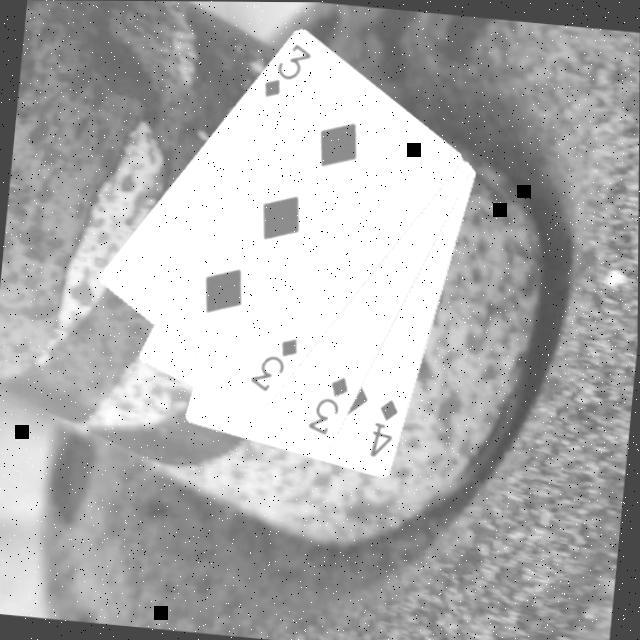3D: (244, 330, 302, 398), (258, 37, 314, 104), (302, 370, 352, 440)
4D: (366, 394, 402, 462)
